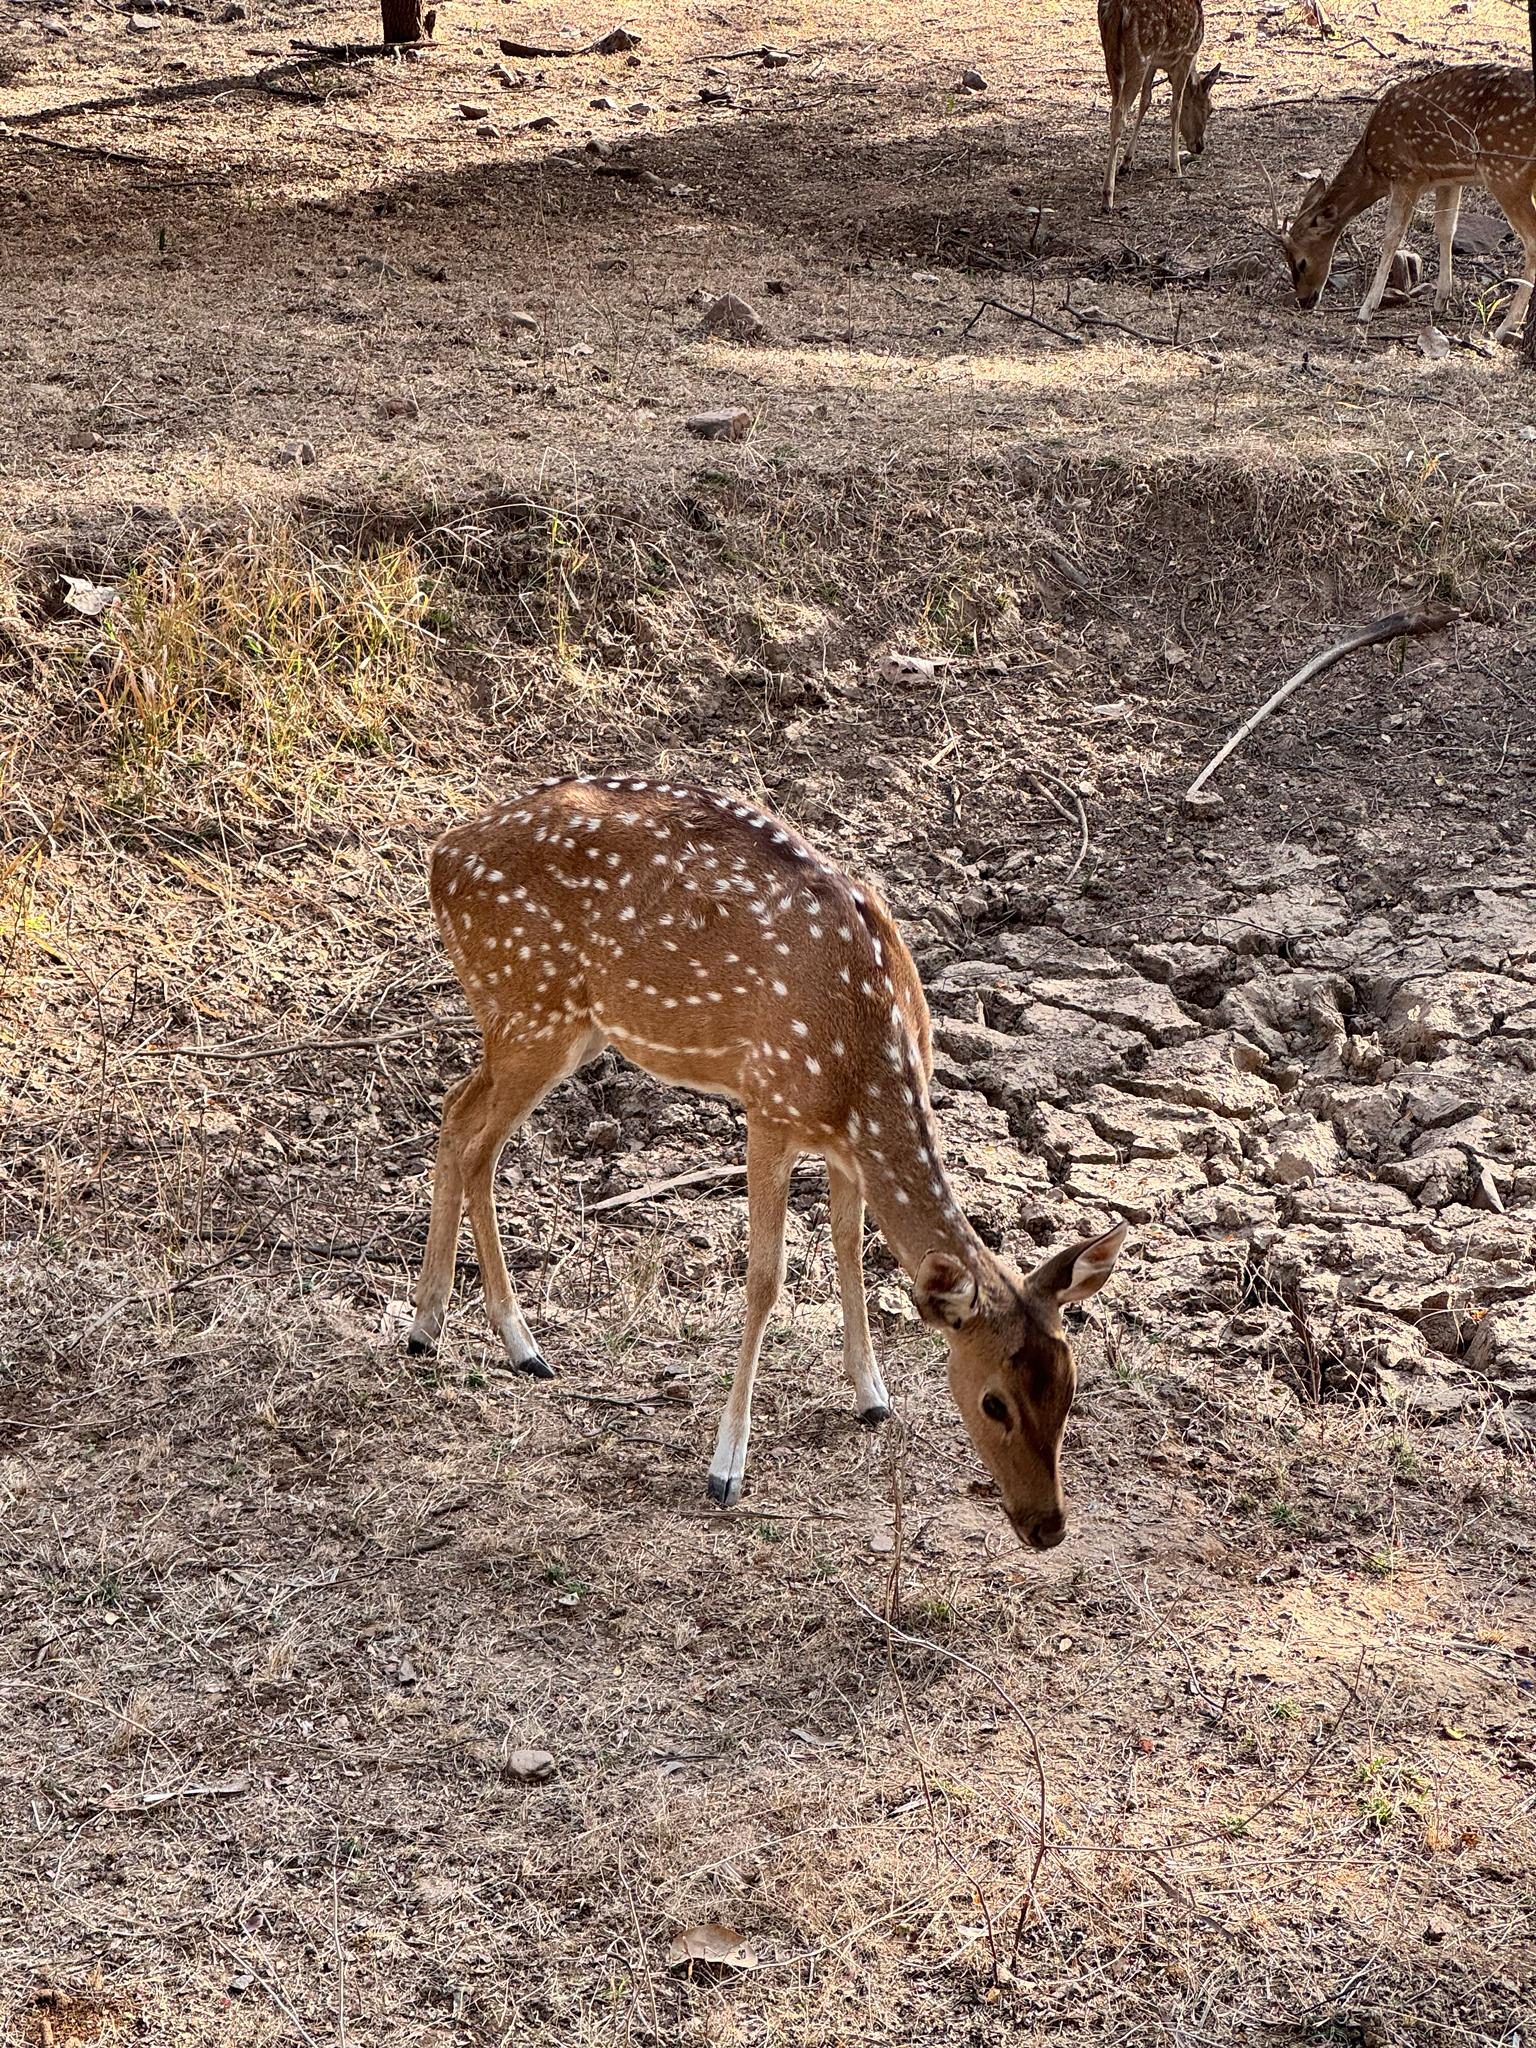Deer: (408, 776, 1125, 1548), (1281, 61, 1534, 340)
